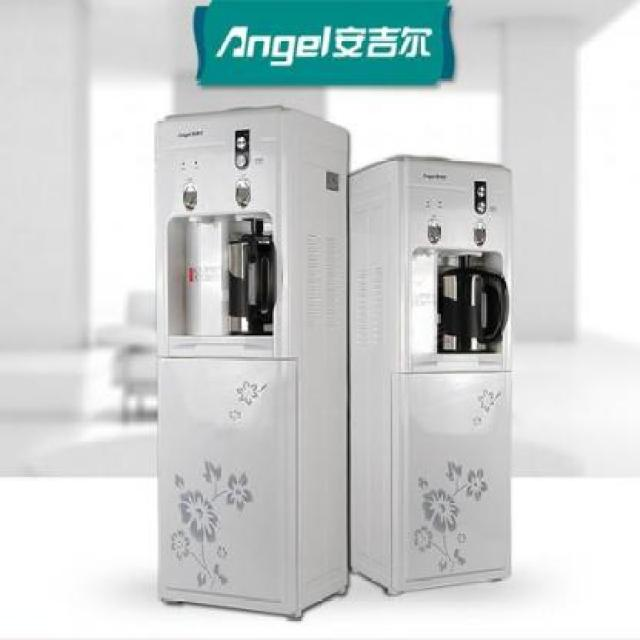cooler: (149, 107, 353, 626), (349, 155, 519, 596)
